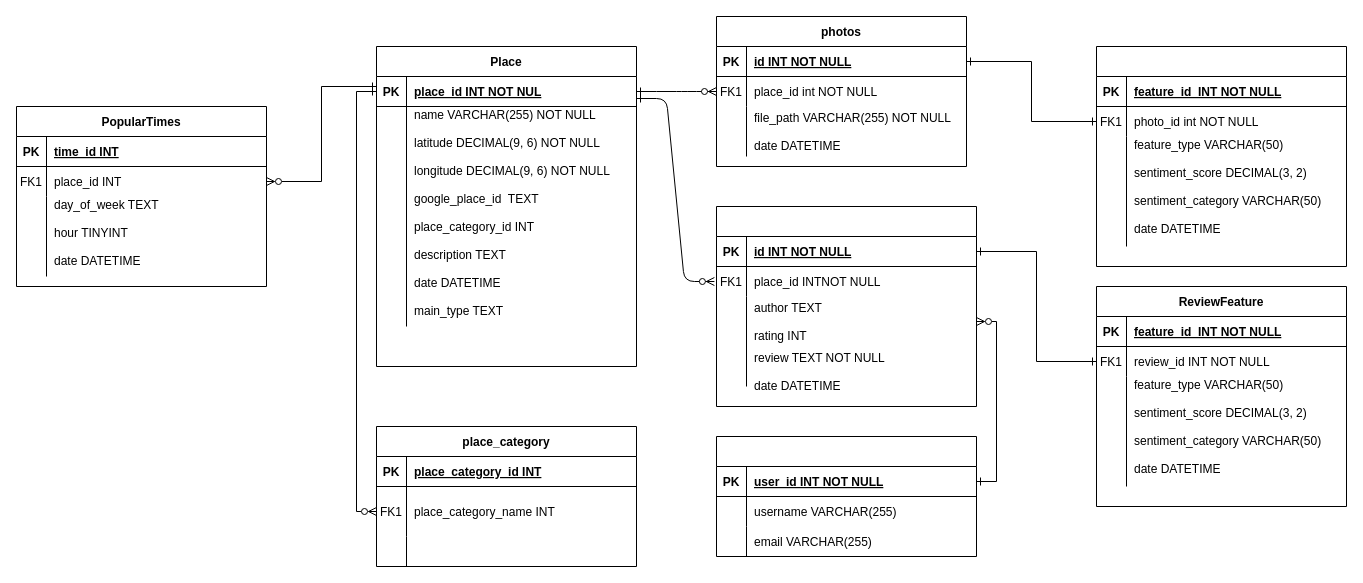
The diagram is 1363 pixels wide and 583 high, and some of its shapes have lost their labels. The shapes that lost their labels are listed below. From the top down, each one's box as (x1, y1, x2, y2) in pixels, then its label:
(1096, 46, 1346, 266): PhotoFeature
(716, 206, 976, 406): reviews
(716, 436, 976, 556): Users
